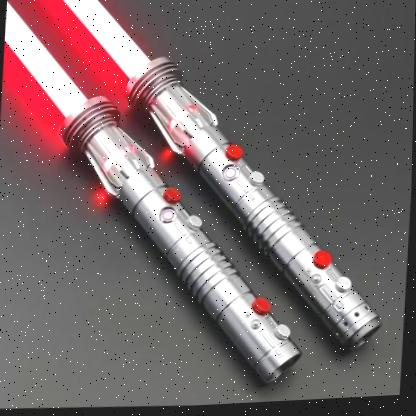sith_lightsaber: (0, 0, 394, 411), (0, 0, 329, 408)
